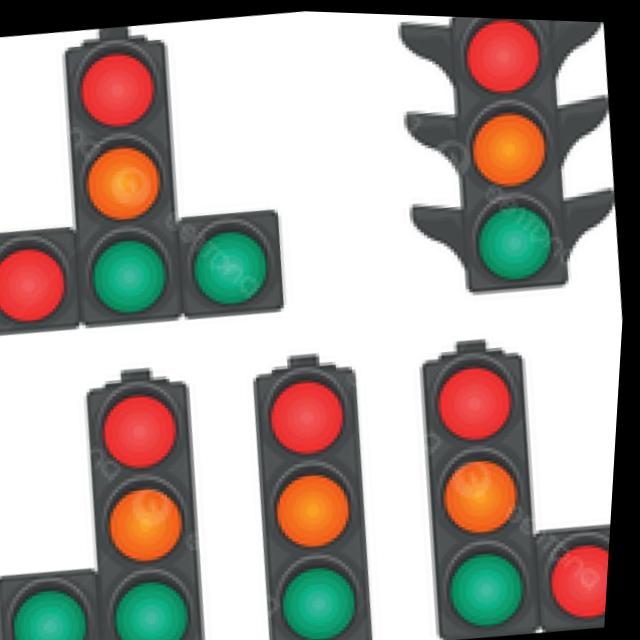green_light: (402, 523, 559, 639)
red_light: (412, 315, 564, 445)
yellow_light: (396, 416, 565, 553)
